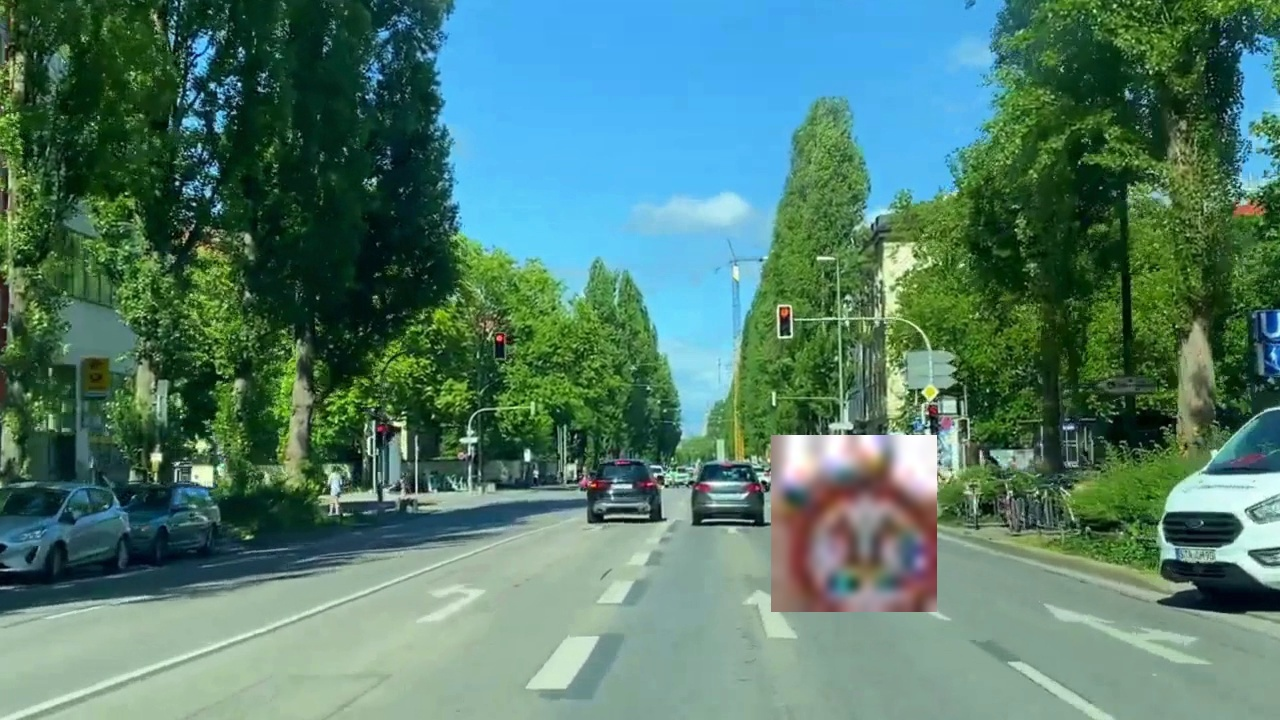Speed 30: (771, 435, 937, 612)
